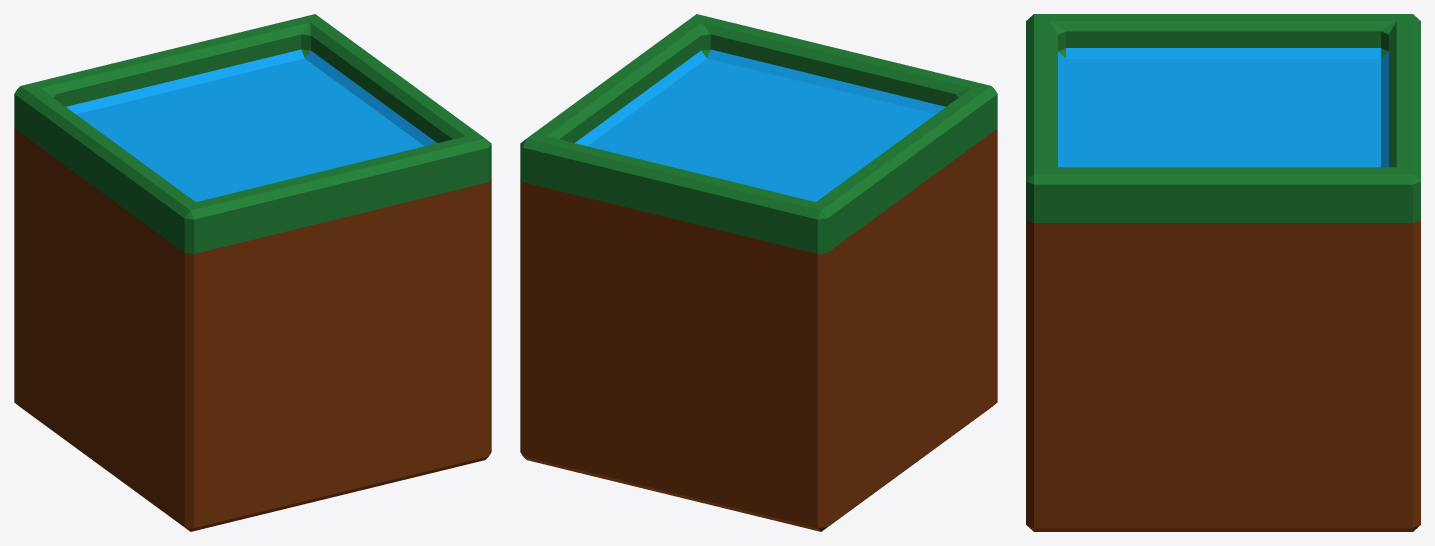
The model's file is waterblock4.fbx.
3 renders of one model, left to right at view 1: azimuth 30°, elevation 25°; view 2: azimuth 150°, elevation 25°; view 3: azimuth 270°, elevation 25°, orthographic. The views are drawn at different scales.
Visible parts, largest first — view 1: zemin.009; view 2: zemin.009; view 3: zemin.009.
Boxes of the visible parts, box(x1,y1,x2,y2) form: zemin.009: box(14, 14, 491, 531); zemin.009: box(520, 14, 997, 531); zemin.009: box(1026, 14, 1420, 531).
Size of the model in its own units: 200 by 200 by 200.
